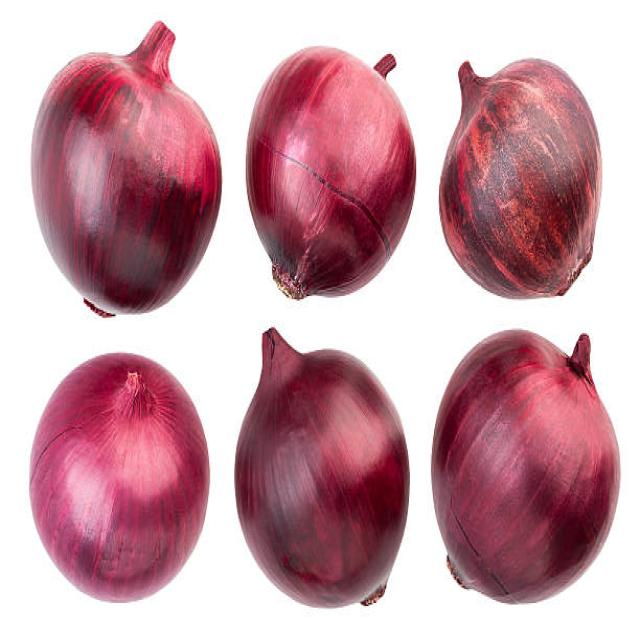onion: (428, 330, 622, 607), (31, 46, 223, 320), (228, 332, 412, 611), (237, 46, 419, 306), (28, 350, 212, 606), (430, 48, 606, 307)
